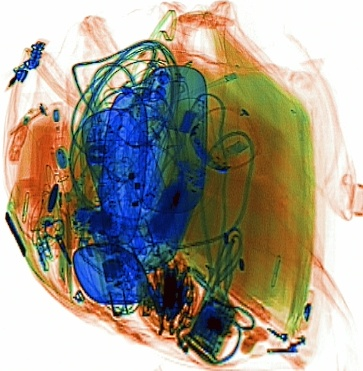powerbank: (136, 157, 211, 249)
